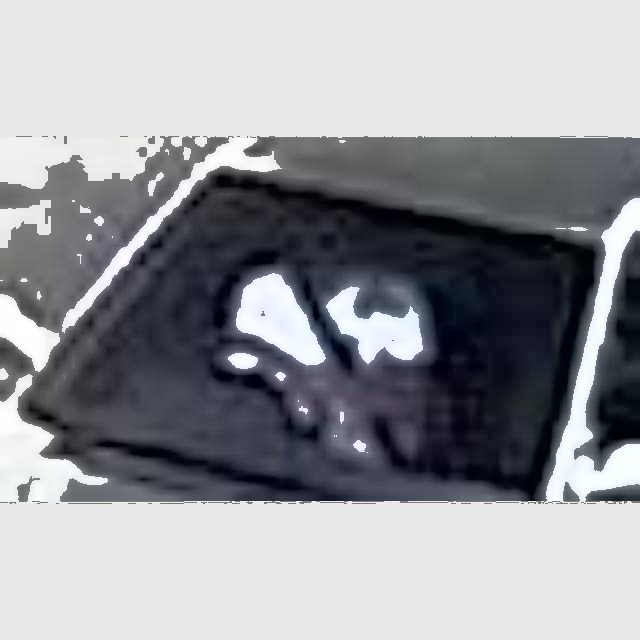pakai: (156, 190, 432, 415)
